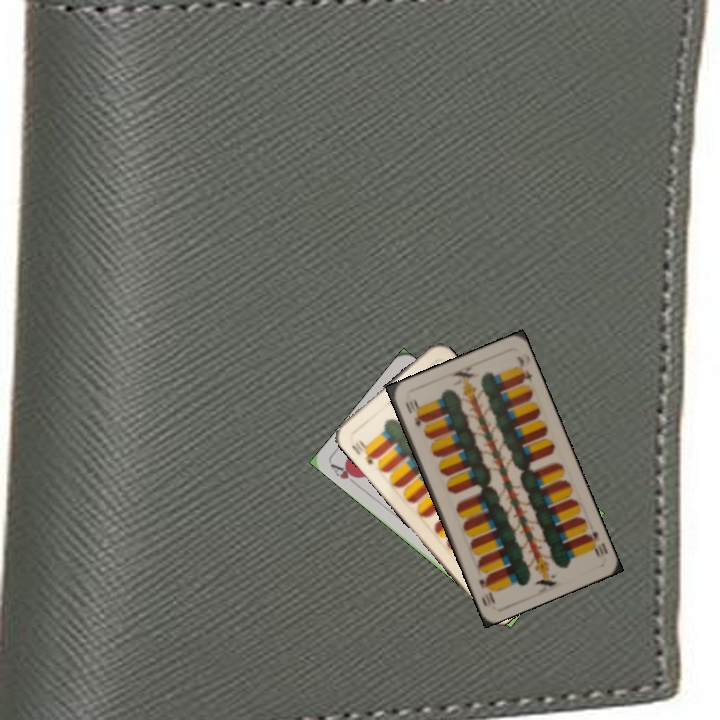E10: (347, 436, 379, 467), (581, 526, 610, 559), (401, 396, 425, 430)
HA: (326, 460, 362, 490)
